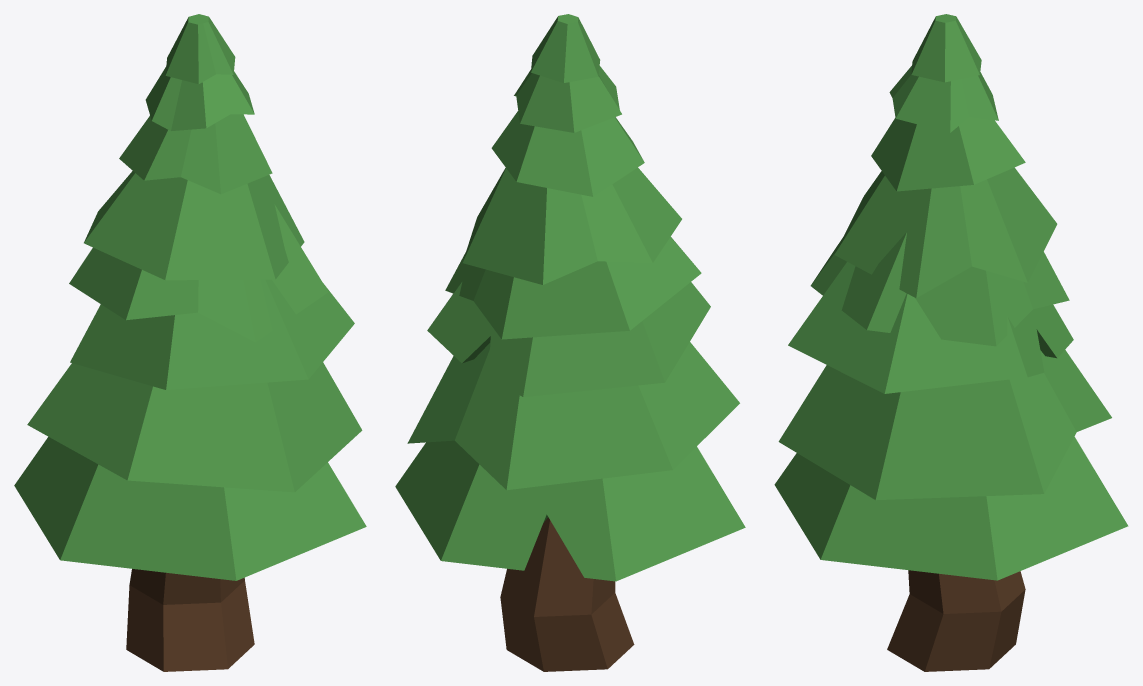
Rendered from MediumPine.glb.
3 renders of one model, left to right at view 1: azimuth 30°, elevation 25°; view 2: azimuth 150°, elevation 25°; view 3: azimuth 270°, elevation 25°, orthographic.
Parts seen in each view (by area): view 1: SM_Tree_medium; view 2: SM_Tree_medium; view 3: SM_Tree_medium.
Boxes of the visible parts, bbox=[...] form: SM_Tree_medium: bbox=[14, 14, 366, 671]; SM_Tree_medium: bbox=[395, 14, 745, 671]; SM_Tree_medium: bbox=[774, 14, 1128, 671].
Bounding box in the file's own units: 3.24 × 6.34 × 3.22.
